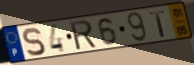4: (47, 23, 68, 54)
6: (97, 17, 119, 46)
9: (125, 11, 149, 43)
R: (68, 19, 99, 52)
S: (21, 27, 47, 58)
T: (148, 9, 168, 39)
